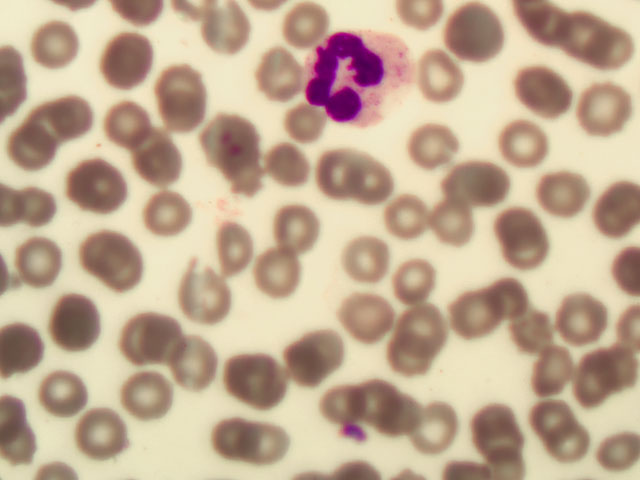Platelets: (343, 424, 371, 445)
RBC: (32, 20, 81, 69), (103, 37, 152, 86), (60, 92, 109, 141), (25, 103, 74, 152), (15, 125, 64, 174), (68, 159, 117, 208), (104, 100, 153, 149), (131, 138, 180, 187), (161, 74, 210, 123), (205, 119, 254, 168), (140, 185, 189, 234), (93, 236, 142, 285), (24, 233, 73, 282), (5, 187, 54, 236), (53, 302, 102, 351), (35, 364, 84, 413), (73, 397, 122, 446), (126, 374, 175, 423), (119, 316, 168, 365), (165, 339, 214, 388), (181, 275, 230, 324), (204, 227, 253, 276), (257, 245, 306, 294), (274, 197, 323, 246), (270, 146, 319, 195), (277, 104, 326, 153), (257, 47, 306, 96), (204, 5, 253, 54), (419, 48, 468, 97), (448, 11, 497, 60), (518, 2, 567, 51), (566, 11, 615, 60), (584, 25, 633, 74), (581, 90, 630, 139), (524, 68, 573, 117), (503, 113, 552, 162), (470, 155, 519, 204), (406, 126, 455, 175), (437, 202, 486, 251), (384, 195, 433, 244), (355, 161, 404, 210), (328, 148, 377, 197), (339, 236, 388, 285), (399, 254, 448, 303), (399, 298, 448, 347), (386, 324, 435, 373), (348, 292, 397, 341), (314, 324, 363, 373), (285, 343, 334, 392), (235, 359, 284, 408), (244, 420, 293, 469), (218, 417, 267, 466), (322, 376, 371, 425), (352, 375, 401, 424), (375, 391, 424, 440), (418, 406, 467, 455), (469, 402, 518, 451), (529, 392, 578, 441), (535, 416, 584, 465), (531, 347, 580, 396), (517, 307, 566, 356), (492, 280, 541, 329), (455, 291, 504, 340), (512, 224, 561, 273), (591, 184, 640, 233), (538, 169, 587, 218), (555, 288, 604, 337), (590, 423, 639, 472), (575, 351, 624, 400), (275, 1, 324, 49)
WBC: (298, 29, 408, 130)
